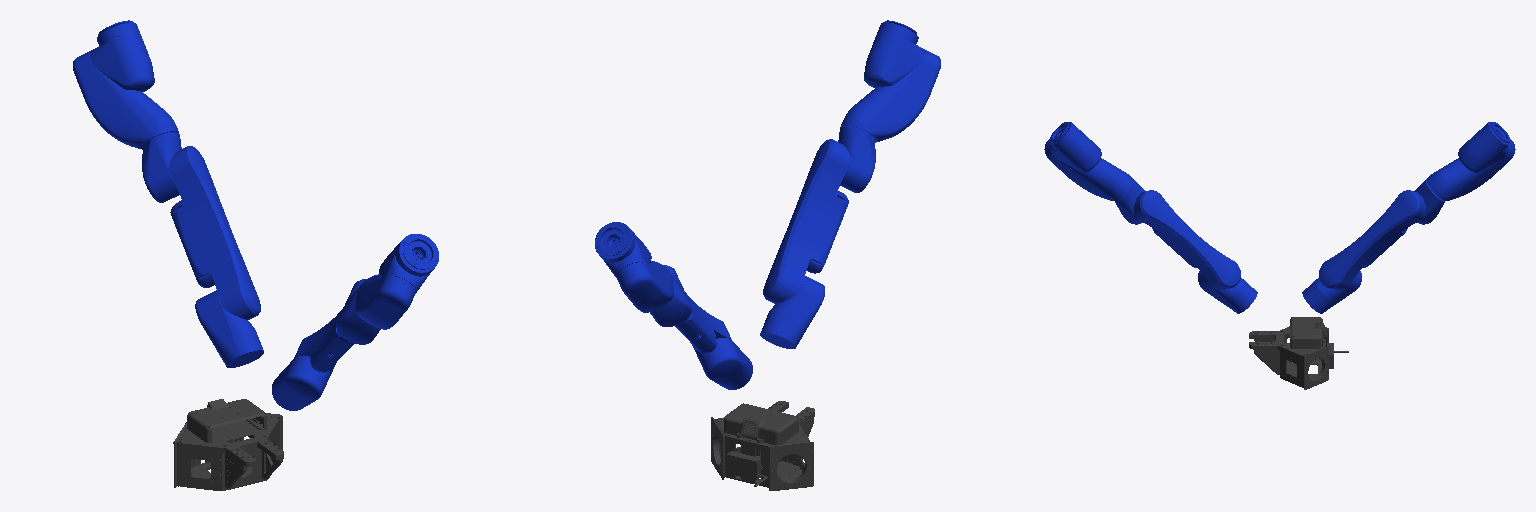
The robot description file, URDF, robot "inail2arm":
<?xml version="1.0" ?>
<!-- =================================================================================== -->
<!-- |    This document was autogenerated by xacro from inail2_dual_arm.urdf.xacro     | -->
<!-- |    EDITING THIS FILE BY HAND IS NOT RECOMMENDED                                 | -->
<!-- =================================================================================== -->
<robot name="inail2arm">
  <material name="grey">
    <color rgba="0.5 0.5 0.5 1"/>
  </material>
  <material name="dark_grey">
    <color rgba="0.3 0.3 0.3 1"/>
  </material>
  <material name="red">
    <color rgba="1.0 0.0 0.0 1"/>
  </material>
  <material name="green">
    <color rgba="0.0 1.0 0.0 1"/>
  </material>
  <material name="blue">
    <color rgba="0.13333333333333333 0.25882352941176473 0.7803921568627451 1.0"/>
  </material>
  <!-- /macro arms -->
  <!-- /macro ee -->
  <!-- Origin -->
  <link name="world"/>
  <joint name="world_joint" type="fixed">
    <parent link="world"/>
    <child link="base_link"/>
    <origin xyz="0 0 1"/>
  </joint>
  <!-- torso -->
  <link name="base_link">
    <inertial>
      <origin xyz="0 0 0"/>
      <mass value="2.7764953"/>
      <inertia ixx="0.010002127" ixy="4.1468013999999995e-05" ixz="-5.1253649e-05" iyy="0.010728527" iyz="-0.00012700723" izz="0.006215603699999999"/>
    </inertial>
    <visual>
      <origin rpy="0.0 0.0 0.0" xyz="0.0 0.0 0.0"/>
      <geometry>
        <mesh filename="package://inail2arm_urdf/meshes/inail_torso.stl" scale="0.001 0.001 0.001"/>
      </geometry>
      <material name="dark_grey"/>
    </visual>
    <collision>
      <origin rpy="0.0 0.0 0.0" xyz="0.0 0.0 0.0"/>
      <geometry>
        <mesh filename="package://inail2arm_urdf/meshes/simple/inail_torso.stl" scale="0.001 0.001 0.001"/>
      </geometry>
    </collision>
  </link>
  <link name="mount_frame_1">
    <inertial>
      <origin rpy="0.0 0.0 0.0" xyz="0.0 0.0 0.0"/>
      <mass value="0.00001"/>
      <inertia ixx="0.0" ixy="0.0" ixz="0.0" iyy="0.0" iyz="0.0" izz="0.0"/>
    </inertial>
  </link>
  <joint name="mount_joint_1" type="fixed">
    <parent link="base_link"/>
    <child link="mount_frame_1"/>
    <origin rpy="0.7853981633975 0 0" xyz="0.065 -0.153361940777 0.221661940777"/>
  </joint>
  <!-- LINKS -->
  <!-- shoulder yaw-->
  <link name="arm1_1">
    <inertial>
      <origin xyz="8.4798664e-05 -0.020782662 0.032183554999999996"/>
      <mass value="0.41054046"/>
      <inertia ixx="0.0012949444" ixy="-1.8773371e-06" ixz="1.2479427999999998e-06" iyy="0.0012303834999999998" iyz="0.00032390228999999997" izz="0.0008036788199999999"/>
    </inertial>
    <visual>
      <origin rpy="0.0 0.0 0.0" xyz="0.0 0.0 0.0"/>
      <geometry>
        <mesh filename="package://inail2arm_urdf/meshes/mesh_shoulder-yaw.stl" scale="0.001 0.001 0.001"/>
      </geometry>
      <material name="blue"/>
    </visual>
    <collision>
      <origin rpy="0.0 0.0 0.0" xyz="0.0 0.0 0.0"/>
      <geometry>
        <mesh filename="package://inail2arm_urdf/meshes/simple/mesh_shoulder-yaw.stl" scale="0.001 0.001 0.001"/>
      </geometry>
    </collision>
  </link>
  <!-- shoulder yaw-->
  <!-- shoulder pitch-->
  <link name="arm1_2">
    <inertial>
      <origin xyz="-3.636067e-05 0.16072685 -0.062849027"/>
      <mass value="3.2487988"/>
      <inertia ixx="0.090371217" ixy="9.791527499999999e-05" ixz="-5.558155099999999e-06" iyy="0.0065574254" iyz="-0.0029068254" izz="0.088276594"/>
    </inertial>
    <visual>
      <origin rpy="0.0 0.0 0.0" xyz="0.0 0.0 0.0"/>
      <geometry>
        <mesh filename="package://inail2arm_urdf/meshes/mesh_shoulder-pitch.stl" scale="0.001 0.001 0.001"/>
      </geometry>
      <material name="blue"/>
    </visual>
    <collision>
      <origin rpy="0.0 0.0 0.0" xyz="0.0 0.0 0.0"/>
      <geometry>
        <mesh filename="package://inail2arm_urdf/meshes/simple/mesh_shoulder-pitch.stl" scale="0.001 0.001 0.001"/>
      </geometry>
    </collision>
  </link>
  <!-- shoulder pitch-->
  <!-- elbow-yaw-->
  <link name="arm1_3">
    <inertial>
      <origin xyz="-1.2974906e-05 0.064319293 -0.03429615"/>
      <mass value="0.52461209"/>
      <inertia ixx="0.0015799731999999998" ixy="3.0297811e-07" ixz="4.1461879e-07" iyy="0.0010025017999999999" iyz="0.00038387214" izz="0.0014999643"/>
    </inertial>
    <visual>
      <origin rpy="0.0 0.0 0.0" xyz="0.0 0.0 0.0"/>
      <geometry>
        <mesh filename="package://inail2arm_urdf/meshes/mesh_elbow.stl" scale="0.001 0.001 0.001"/>
      </geometry>
      <material name="blue"/>
    </visual>
    <collision>
      <origin rpy="0.0 0.0 0.0" xyz="0.0 0.0 0.0"/>
      <geometry>
        <mesh filename="package://inail2arm_urdf/meshes/simple/mesh_elbow.stl" scale="0.001 0.001 0.001"/>
      </geometry>
    </collision>
  </link>
  <!-- elbow-yaw-->
  <!-- forearm-yaw -->
  <link name="arm1_4">
    <inertial>
      <origin xyz="-6.452875299999999e-05 -0.046448856999999996 0.13357443000000002"/>
      <mass value="2.0046544"/>
      <inertia ixx="0.023326476999999998" ixy="-1.7237335e-05" ixz="-2.9785178999999997e-05" iyy="0.02013323" iyz="0.006970601399999999" izz="0.0052212805"/>
    </inertial>
    <visual>
      <origin rpy="0.0 0.0 0.0" xyz="0.0 0.0 0.0"/>
      <geometry>
        <mesh filename="package://inail2arm_urdf/meshes/mesh_forearm-yaw.stl" scale="0.001 0.001 0.001"/>
      </geometry>
      <material name="blue"/>
    </visual>
    <collision>
      <origin rpy="0.0 0.0 0.0" xyz="0.0 0.0 0.0"/>
      <geometry>
        <mesh filename="package://inail2arm_urdf/meshes/simple/mesh_forearm-yaw.stl" scale="0.001 0.001 0.001"/>
      </geometry>
    </collision>
  </link>
  <!-- forearm-yaw -->
  <!--wrist-pitch -->
  <link name="arm1_5">
    <inertial>
      <origin xyz="-4.7450211e-05 0.017403047999999997 0.040478983999999996"/>
      <mass value="1.0418416"/>
      <inertia ixx="0.0018450264" ixy="-6.3813838e-07" ixz="1.6212593e-05" iyy="0.0011114155" iyz="-3.7623514e-05" izz="0.0018417393"/>
    </inertial>
    <visual>
      <origin rpy="0.0 0.0 0.0" xyz="0.0 0.0 0.0"/>
      <geometry>
        <mesh filename="package://inail2arm_urdf/meshes/mesh_wrist-pitch.stl" scale="0.001                0.001 0.001"/>
      </geometry>
      <material name="blue"/>
    </visual>
    <collision>
      <origin rpy="0.0 0.0 0.0" xyz="0.0 0.0 0.0"/>
      <geometry>
        <mesh filename="package://inail2arm_urdf/meshes/simple/mesh_wrist-pitch.stl" scale="0.001                0.001 0.001"/>
      </geometry>
    </collision>
  </link>
  <link name="arm1_6">
    <inertial>
      <origin xyz="-0.00099908245 0.0010236000000000002 0.017236136"/>
      <mass value="0.20700511"/>
      <inertia ixx="0.00015215801" ixy="5.6840238e-06" ixz="-1.6110538999999998e-06" iyy="0.00015336095" iyz="1.4745761999999999e-06" izz="0.00026680853"/>
    </inertial>
    <visual>
      <origin rpy="0.0 0.0 0.0" xyz="0.0 0.0 0.0"/>
      <geometry>
        <mesh filename="package://inail2arm_urdf/meshes/mesh_wrist-roll.stl" scale="0.001 0.001 0.001"/>
      </geometry>
      <material name="blue"/>
    </visual>
    <collision>
      <origin rpy="0.0 0.0 0.0" xyz="0.0 0.0 0.0"/>
      <geometry>
        <mesh filename="package://inail2arm_urdf/meshes/mesh_wrist-roll.stl" scale="0.001 0.001 0.001"/>
      </geometry>
    </collision>
  </link>
  <!--wrist-pitch -->
  <!-- /LINKS -->
  <!-- JOINTS -->
  <!-- shoulder yaw -->
  <joint name="j_arm1_1" type="revolute">
    <parent link="mount_frame_1"/>
    <child link="arm1_1"/>
    <axis xyz="0 0 1"/>
    <origin rpy="0 0 -0.7853981633975" xyz="0 0 0"/>
    <limit effort="147.0" lower="-2.85" upper="2.85" velocity="3.86"/>
  </joint>
  <!-- shoulder yaw -->
  <!-- shoulder pitch -->
  <joint name="j_arm1_2" type="revolute">
    <parent link="arm1_1"/>
    <child link="arm1_2"/>
    <origin rpy="1.570796326795 0.0 0.0" xyz="0.0 -0.051 0.079"/>
    <axis xyz="0 0 -1"/>
    <limit effort="147.0" lower="-2.0" upper="2.0" velocity="3.86"/>
  </joint>
  <!-- shoulder pitch -->
  <!-- elbow yaw -->
  <joint name="j_arm1_3" type="revolute">
    <parent link="arm1_2"/>
    <child link="arm1_3"/>
    <origin rpy="0.0 0.0 0.0" xyz="0.0 0.365095 0.0"/>
    <axis xyz="0 0 1"/>
    <limit effort="147.0" lower="-2.2" upper="2.2" velocity="6.06"/>
    <!-- Virtual limits for elbow joints, so elbow doesnt flip in undesired orientation: better use cartesio config file to set these-->
    <!-- <xacro:if value="${parent == 'mount_frame_1'}">
            <limit lower="${j_arm_3_lower[0]}" upper="${-10*toRad}" effort="${j_arm_3_torque[0]}" velocity="${j_arm_3_velocity[0]}" />
        </xacro:if>

        <xacro:if value="${parent == 'mount_frame_2'}">
            <limit lower="${10*toRad}" upper="${j_arm_3_upper[0]}" effort="${j_arm_3_torque[0]}" velocity="${j_arm_3_velocity[0]}" />
       </xacro:if> -->
  </joint>
  <!-- elbow yaw -->
  <!-- forearm yaw -->
  <joint name="j_arm1_4" type="revolute">
    <parent link="arm1_3"/>
    <child link="arm1_4"/>
    <origin rpy="-1.570796326795 0.0 0.0" xyz="0.0 0.0825 -0.051"/>
    <axis xyz="0 0 1"/>
    <limit effort="147.0" lower="-2.7" upper="2.7" velocity="6.06"/>
  </joint>
  <!-- forearm yaw -->
  <!-- wrist pitch-->
  <joint name="j_arm1_5" type="revolute">
    <parent link="arm1_4"/>
    <child link="arm1_5"/>
    <origin rpy="-1.570796326795 0.0 0.0" xyz="0.0 -0.043 0.2525"/>
    <axis xyz="0 0 1"/>
    <limit effort="55.0" lower="-2.2" upper="2.2" velocity="11.72"/>
  </joint>
  <!-- wrist pitch-->
  <!-- wrist2 pitch-->
  <joint name="j_arm1_6" type="revolute">
    <parent link="arm1_5"/>
    <child link="arm1_6"/>
    <origin rpy="1.570796326795 0.0 0.0" xyz="0.0 -0.033 0.043"/>
    <axis xyz="0 0 1"/>
    <limit effort="55.0" lower="-2.7" upper="2.7" velocity="11.72"/>
  </joint>
  <!-- /wrist2 pitch-->
  <link name="mount_frame_2">
    <inertial>
      <origin rpy="0.0 0.0 0.0" xyz="0.0 0.0 0.0"/>
      <mass value="0.00001"/>
      <inertia ixx="0.0" ixy="0.0" ixz="0.0" iyy="0.0" iyz="0.0" izz="0.0"/>
    </inertial>
  </link>
  <joint name="mount_joint_2" type="fixed">
    <parent link="base_link"/>
    <child link="mount_frame_2"/>
    <origin rpy="-0.7853981633975 0 0" xyz="0.065 0.153361940777 0.221661940777"/>
  </joint>
  <!-- LINKS -->
  <!-- shoulder yaw-->
  <link name="arm2_1">
    <inertial>
      <origin xyz="8.4798664e-05 -0.020782662 0.032183554999999996"/>
      <mass value="0.41054046"/>
      <inertia ixx="0.0012949444" ixy="-1.8773371e-06" ixz="1.2479427999999998e-06" iyy="0.0012303834999999998" iyz="0.00032390228999999997" izz="0.0008036788199999999"/>
    </inertial>
    <visual>
      <origin rpy="0.0 0.0 0.0" xyz="0.0 0.0 0.0"/>
      <geometry>
        <mesh filename="package://inail2arm_urdf/meshes/mesh_shoulder-yaw.stl" scale="0.001 0.001 0.001"/>
      </geometry>
      <material name="blue"/>
    </visual>
    <collision>
      <origin rpy="0.0 0.0 0.0" xyz="0.0 0.0 0.0"/>
      <geometry>
        <mesh filename="package://inail2arm_urdf/meshes/simple/mesh_shoulder-yaw.stl" scale="0.001 0.001 0.001"/>
      </geometry>
    </collision>
  </link>
  <!-- shoulder yaw-->
  <!-- shoulder pitch-->
  <link name="arm2_2">
    <inertial>
      <origin xyz="-3.636067e-05 0.16072685 -0.062849027"/>
      <mass value="3.2487988"/>
      <inertia ixx="0.090371217" ixy="9.791527499999999e-05" ixz="-5.558155099999999e-06" iyy="0.0065574254" iyz="-0.0029068254" izz="0.088276594"/>
    </inertial>
    <visual>
      <origin rpy="0.0 0.0 0.0" xyz="0.0 0.0 0.0"/>
      <geometry>
        <mesh filename="package://inail2arm_urdf/meshes/mesh_shoulder-pitch.stl" scale="0.001 0.001 0.001"/>
      </geometry>
      <material name="blue"/>
    </visual>
    <collision>
      <origin rpy="0.0 0.0 0.0" xyz="0.0 0.0 0.0"/>
      <geometry>
        <mesh filename="package://inail2arm_urdf/meshes/simple/mesh_shoulder-pitch.stl" scale="0.001 0.001 0.001"/>
      </geometry>
    </collision>
  </link>
  <!-- shoulder pitch-->
  <!-- elbow-yaw-->
  <link name="arm2_3">
    <inertial>
      <origin xyz="-1.2974906e-05 0.064319293 -0.03429615"/>
      <mass value="0.52461209"/>
      <inertia ixx="0.0015799731999999998" ixy="3.0297811e-07" ixz="4.1461879e-07" iyy="0.0010025017999999999" iyz="0.00038387214" izz="0.0014999643"/>
    </inertial>
    <visual>
      <origin rpy="0.0 0.0 0.0" xyz="0.0 0.0 0.0"/>
      <geometry>
        <mesh filename="package://inail2arm_urdf/meshes/mesh_elbow.stl" scale="0.001 0.001 0.001"/>
      </geometry>
      <material name="blue"/>
    </visual>
    <collision>
      <origin rpy="0.0 0.0 0.0" xyz="0.0 0.0 0.0"/>
      <geometry>
        <mesh filename="package://inail2arm_urdf/meshes/simple/mesh_elbow.stl" scale="0.001 0.001 0.001"/>
      </geometry>
    </collision>
  </link>
  <!-- elbow-yaw-->
  <!-- forearm-yaw -->
  <link name="arm2_4">
    <inertial>
      <origin xyz="-6.452875299999999e-05 -0.046448856999999996 0.13357443000000002"/>
      <mass value="2.0046544"/>
      <inertia ixx="0.023326476999999998" ixy="-1.7237335e-05" ixz="-2.9785178999999997e-05" iyy="0.02013323" iyz="0.006970601399999999" izz="0.0052212805"/>
    </inertial>
    <visual>
      <origin rpy="0.0 0.0 0.0" xyz="0.0 0.0 0.0"/>
      <geometry>
        <mesh filename="package://inail2arm_urdf/meshes/mesh_forearm-yaw.stl" scale="0.001 0.001 0.001"/>
      </geometry>
      <material name="blue"/>
    </visual>
    <collision>
      <origin rpy="0.0 0.0 0.0" xyz="0.0 0.0 0.0"/>
      <geometry>
        <mesh filename="package://inail2arm_urdf/meshes/simple/mesh_forearm-yaw.stl" scale="0.001 0.001 0.001"/>
      </geometry>
    </collision>
  </link>
  <!-- forearm-yaw -->
  <!--wrist-pitch -->
  <link name="arm2_5">
    <inertial>
      <origin xyz="-4.7450211e-05 0.017403047999999997 0.040478983999999996"/>
      <mass value="1.0418416"/>
      <inertia ixx="0.0018450264" ixy="-6.3813838e-07" ixz="1.6212593e-05" iyy="0.0011114155" iyz="-3.7623514e-05" izz="0.0018417393"/>
    </inertial>
    <visual>
      <origin rpy="0.0 0.0 0.0" xyz="0.0 0.0 0.0"/>
      <geometry>
        <mesh filename="package://inail2arm_urdf/meshes/mesh_wrist-pitch.stl" scale="0.001                0.001 0.001"/>
      </geometry>
      <material name="blue"/>
    </visual>
    <collision>
      <origin rpy="0.0 0.0 0.0" xyz="0.0 0.0 0.0"/>
      <geometry>
        <mesh filename="package://inail2arm_urdf/meshes/simple/mesh_wrist-pitch.stl" scale="0.001                0.001 0.001"/>
      </geometry>
    </collision>
  </link>
  <link name="arm2_6">
    <inertial>
      <origin xyz="-0.00099908245 0.0010236000000000002 0.017236136"/>
      <mass value="0.20700511"/>
      <inertia ixx="0.00015215801" ixy="5.6840238e-06" ixz="-1.6110538999999998e-06" iyy="0.00015336095" iyz="1.4745761999999999e-06" izz="0.00026680853"/>
    </inertial>
    <visual>
      <origin rpy="0.0 0.0 0.0" xyz="0.0 0.0 0.0"/>
      <geometry>
        <mesh filename="package://inail2arm_urdf/meshes/mesh_wrist-roll.stl" scale="0.001 0.001 0.001"/>
      </geometry>
      <material name="blue"/>
    </visual>
    <collision>
      <origin rpy="0.0 0.0 0.0" xyz="0.0 0.0 0.0"/>
      <geometry>
        <mesh filename="package://inail2arm_urdf/meshes/mesh_wrist-roll.stl" scale="0.001 0.001 0.001"/>
      </geometry>
    </collision>
  </link>
  <!--wrist-pitch -->
  <!-- /LINKS -->
  <!-- JOINTS -->
  <!-- shoulder yaw -->
  <joint name="j_arm2_1" type="revolute">
    <parent link="mount_frame_2"/>
    <child link="arm2_1"/>
    <axis xyz="0 0 1"/>
    <origin rpy="0 0 -2.3561944901925" xyz="0 0 0"/>
    <limit effort="147.0" lower="-2.85" upper="2.85" velocity="3.86"/>
  </joint>
  <!-- shoulder yaw -->
  <!-- shoulder pitch -->
  <joint name="j_arm2_2" type="revolute">
    <parent link="arm2_1"/>
    <child link="arm2_2"/>
    <origin rpy="1.570796326795 0.0 0.0" xyz="0.0 -0.051 0.079"/>
    <axis xyz="0 0 -1"/>
    <limit effort="147.0" lower="-2.0" upper="2.0" velocity="3.86"/>
  </joint>
  <!-- shoulder pitch -->
  <!-- elbow yaw -->
  <joint name="j_arm2_3" type="revolute">
    <parent link="arm2_2"/>
    <child link="arm2_3"/>
    <origin rpy="0.0 0.0 0.0" xyz="0.0 0.365095 0.0"/>
    <axis xyz="0 0 1"/>
    <limit effort="147.0" lower="-2.2" upper="2.2" velocity="6.06"/>
    <!-- Virtual limits for elbow joints, so elbow doesnt flip in undesired orientation: better use cartesio config file to set these-->
    <!-- <xacro:if value="${parent == 'mount_frame_1'}">
            <limit lower="${j_arm_3_lower[0]}" upper="${-10*toRad}" effort="${j_arm_3_torque[0]}" velocity="${j_arm_3_velocity[0]}" />
        </xacro:if>

        <xacro:if value="${parent == 'mount_frame_2'}">
            <limit lower="${10*toRad}" upper="${j_arm_3_upper[0]}" effort="${j_arm_3_torque[0]}" velocity="${j_arm_3_velocity[0]}" />
       </xacro:if> -->
  </joint>
  <!-- elbow yaw -->
  <!-- forearm yaw -->
  <joint name="j_arm2_4" type="revolute">
    <parent link="arm2_3"/>
    <child link="arm2_4"/>
    <origin rpy="-1.570796326795 0.0 0.0" xyz="0.0 0.0825 -0.051"/>
    <axis xyz="0 0 1"/>
    <limit effort="147.0" lower="-2.7" upper="2.7" velocity="6.06"/>
  </joint>
  <!-- forearm yaw -->
  <!-- wrist pitch-->
  <joint name="j_arm2_5" type="revolute">
    <parent link="arm2_4"/>
    <child link="arm2_5"/>
    <origin rpy="-1.570796326795 0.0 0.0" xyz="0.0 -0.043 0.2525"/>
    <axis xyz="0 0 1"/>
    <limit effort="55.0" lower="-2.2" upper="2.2" velocity="11.72"/>
  </joint>
  <!-- wrist pitch-->
  <!-- wrist2 pitch-->
  <joint name="j_arm2_6" type="revolute">
    <parent link="arm2_5"/>
    <child link="arm2_6"/>
    <origin rpy="1.570796326795 0.0 0.0" xyz="0.0 -0.033 0.043"/>
    <axis xyz="0 0 1"/>
    <limit effort="55.0" lower="-2.7" upper="2.7" velocity="11.72"/>
  </joint>
  <!-- /wrist2 pitch-->
  <!-- dagana on arm 1 -->
  <!-- <xacro:inail2_arm_ee arm_num="1"  parent="arm1_6" /> -->
  <!-- dagana on arm 2 -->
  <!-- <xacro:inail2_arm_ee arm_num="2"  parent="arm2_6" /> -->
  <!--- END EFFECTOR  -->
  <!-- <xacro:inail2_arm_ee arm_num="1"  parent="arm1_6">
    </xacro:inail2_arm_ee>
   
    <xacro:if value="${PROXIMITY_SENSORS}">
        <xacro:include filename="$(find inail2arm_urdf)/urdf/inail2arm_proximity_sensors.urdf.xacro" />
    </xacro:if> -->
</robot>

--- Facts derived from the render (not from the file) ---
Views: 3 orthographic renders of the robot side by side, from view 1: azimuth 30°, elevation 25°; view 2: azimuth 150°, elevation 25°; view 3: azimuth 270°, elevation 25°.
Model inail2arm with 16 links and 15 joints (12 revolute, 3 fixed), rooted at world, posed every joint at zero.
Visible links, largest first — view 1: base_link, arm2_2, arm2_4, arm2_1, arm2_5, arm1_4, arm1_1, arm2_3, arm1_2, arm1_6, arm1_3, arm1_5 (+1 smaller); view 2: base_link, arm1_2, arm1_4, arm1_1, arm1_5, arm2_4, arm2_1, arm1_3, arm2_2, arm2_6, arm2_3, arm2_5; view 3: base_link, arm1_2, arm2_2, arm1_4, arm2_4, arm1_5, arm2_5, arm1_1, arm2_1, arm1_3, arm2_3.
Link boxes in pixels (x1,y1,x2,y2): base_link: (173,399,283,490); arm2_2: (168,146,260,319); arm2_4: (73,51,178,149); arm2_1: (195,290,263,367); arm2_5: (90,32,154,91); arm1_4: (355,274,415,329); arm1_1: (272,356,330,410); arm2_3: (142,132,181,202); arm1_2: (294,279,366,373); arm1_6: (395,234,438,276); arm1_3: (336,289,380,344); arm1_5: (379,245,429,292); base_link: (711,401,814,490); arm1_2: (763,139,850,303); arm1_4: (841,50,940,142); arm1_1: (760,276,824,348); arm1_5: (864,32,924,87); arm2_4: (617,261,673,312); arm2_1: (697,338,752,389); arm1_3: (838,126,875,192); arm2_2: (663,265,731,356); arm2_6: (595,222,635,262); arm2_3: (650,274,691,326); arm2_5: (604,232,651,277); base_link: (1249,317,1348,389); arm1_2: (1134,190,1240,289); arm2_2: (1319,190,1425,289); arm1_4: (1044,140,1132,200); arm2_4: (1427,140,1515,200); arm1_5: (1051,128,1101,172); arm2_5: (1458,128,1508,172); arm1_1: (1198,271,1257,313); arm2_1: (1302,271,1361,313); arm1_3: (1115,179,1145,224); arm2_3: (1414,179,1444,224).
Bounding box of the posed robot: 0.3082 × 1.6 × 0.963 m (x, y, z).
Meshes: 7 distinct files referenced, 13 mesh visuals loaded (7 binary STL).